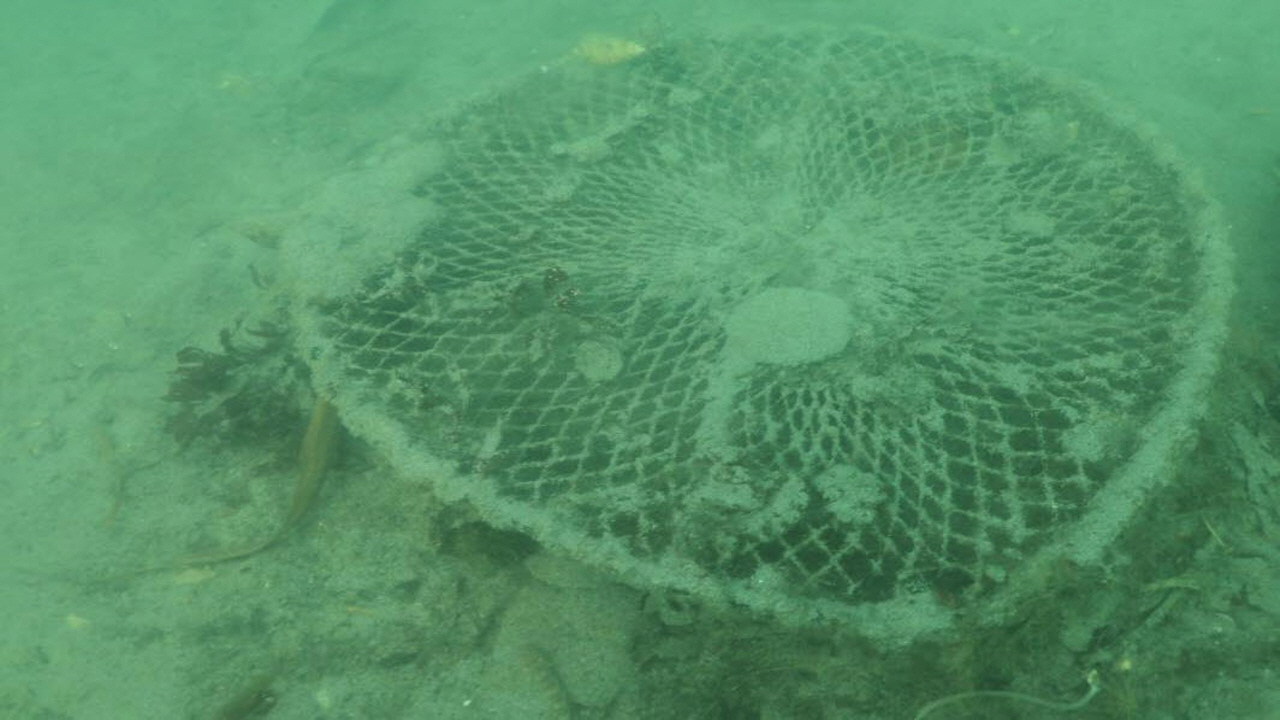circular fish trap: (288, 19, 1233, 642)
